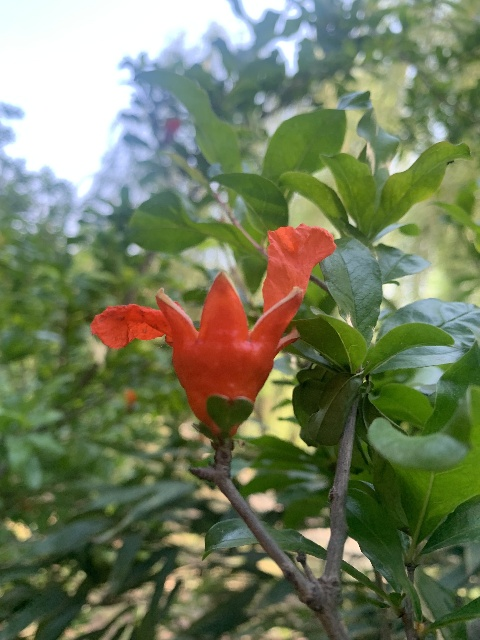flower: (86, 223, 336, 437)
